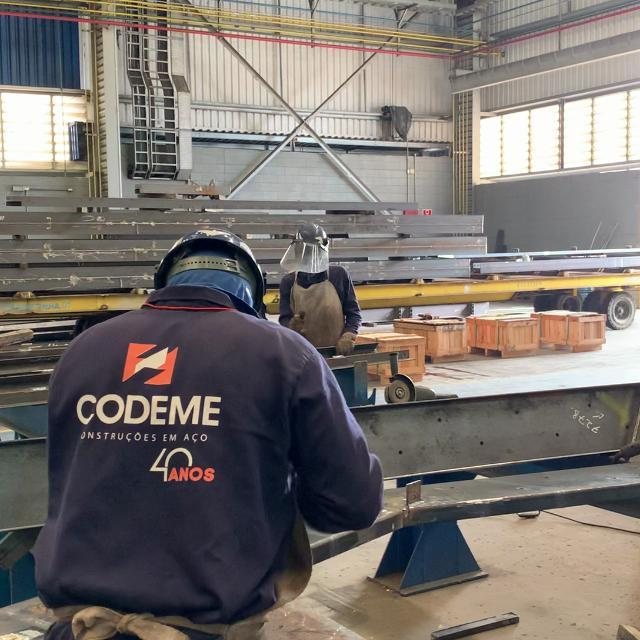face-shield: (280, 238, 329, 274)
glove: (336, 334, 357, 353)
helmet: (154, 227, 269, 315), (296, 222, 329, 243)
person: (28, 230, 387, 627), (276, 220, 362, 358)
